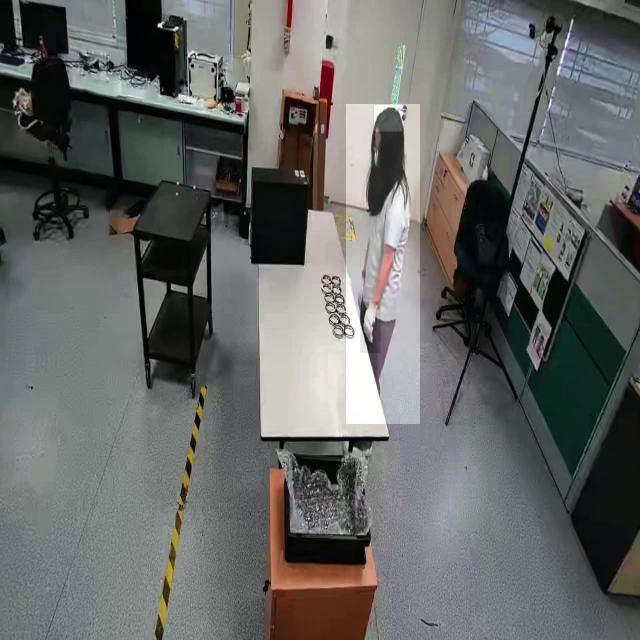hand_glove: (361, 301, 381, 354)
head_nohelmet: (374, 105, 403, 132)
person: (346, 104, 420, 425)
